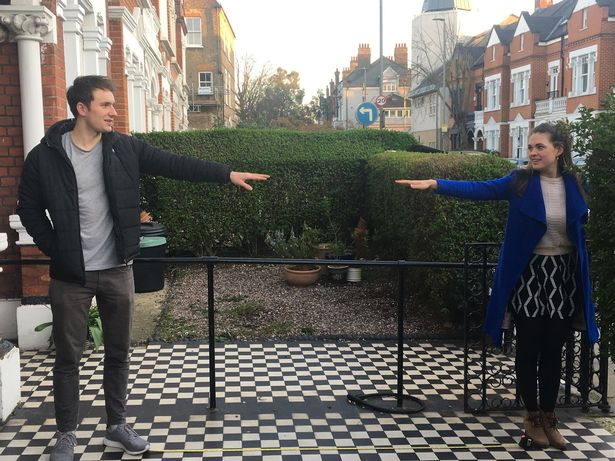Good: (17, 79, 586, 448)
